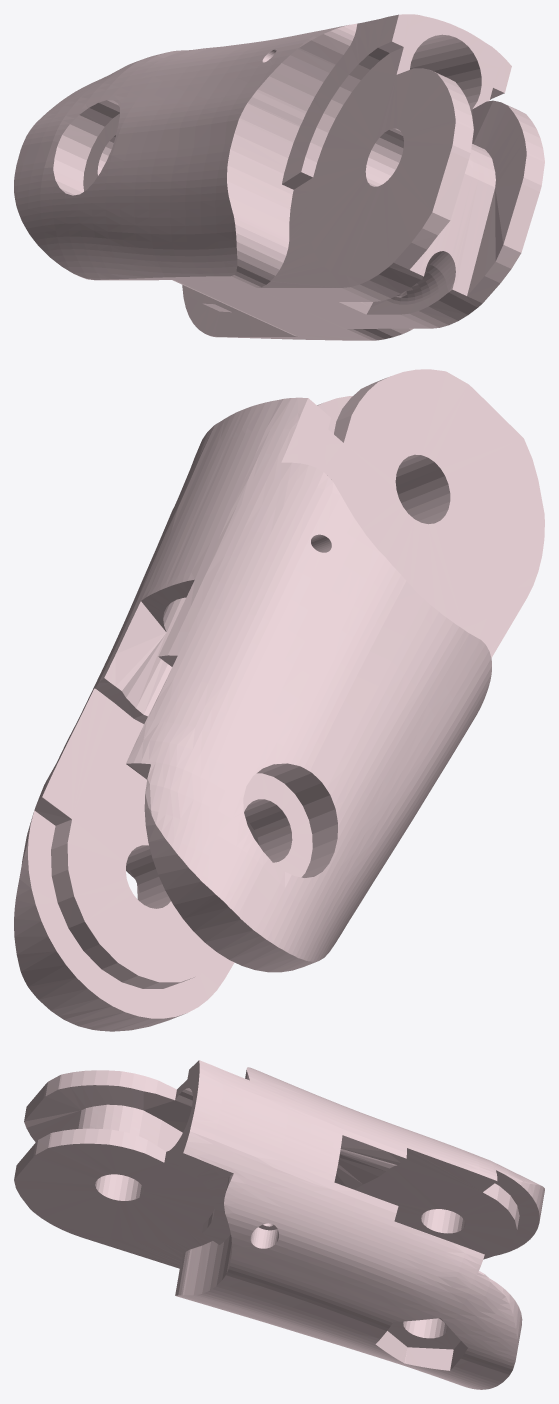
File: i02_leftHand_ringFingerMid_visual.obj.full.glb
3 views of the same model, one above another, from view 1: azimuth 30°, elevation 25°; view 2: azimuth 150°, elevation 25°; view 3: azimuth 270°, elevation 25° (orthographic). The views are drawn at different scales.
Size of the model in its own units: 0.1927 by 0.2688 by 0.3907.
